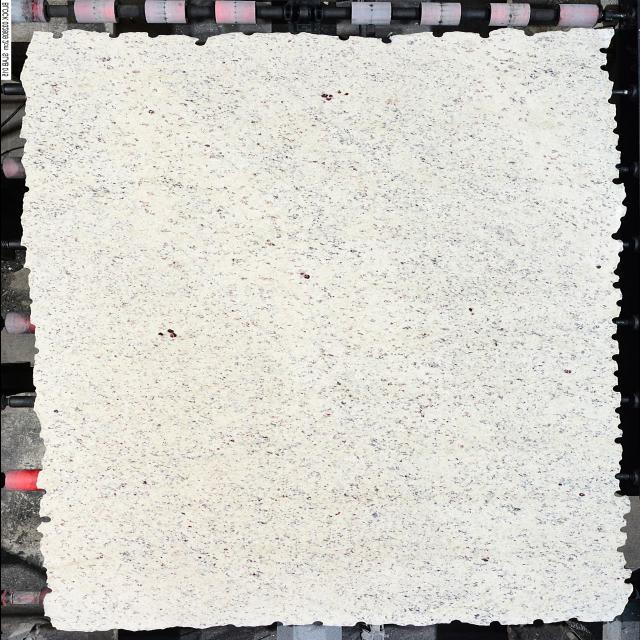chapa: (16, 27, 630, 632)
veio: (190, 36, 210, 48), (48, 30, 66, 40), (606, 176, 624, 186), (609, 489, 627, 499), (36, 514, 52, 524), (478, 30, 492, 40), (613, 546, 627, 556), (104, 32, 120, 40), (594, 46, 610, 54), (486, 619, 502, 627), (608, 232, 622, 241), (610, 280, 622, 290), (620, 576, 632, 586), (529, 618, 544, 626), (378, 36, 392, 44), (596, 64, 608, 72)
